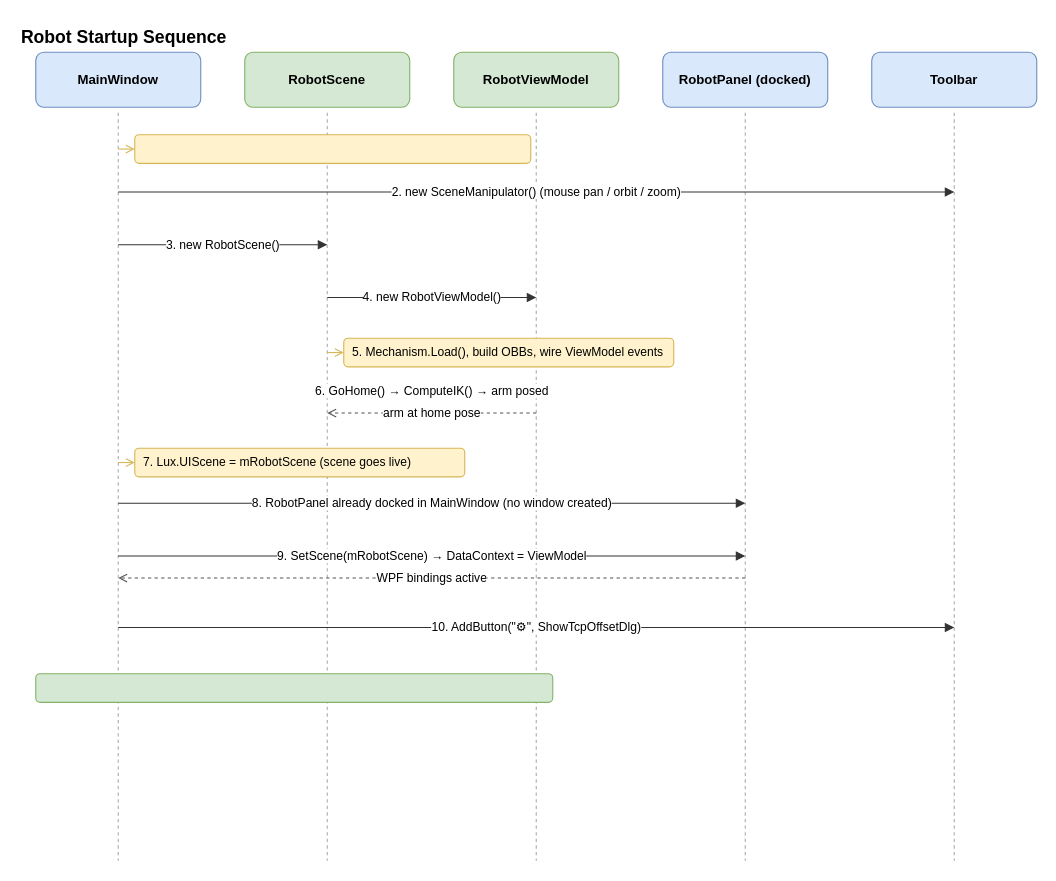
This 1056x881 diagram has some shape labels left out. The shapes that lost their labels are listed below. From the top down, each one's centre as x and y in pixels, then its label:
At point 332,148: "1. WPFHost.Init(this, OnLuxReady) → GL ready → fires OnLuxReady()".
At point 294,687: "Arm is rendered. Docked panel is visible. All sliders are live.".
